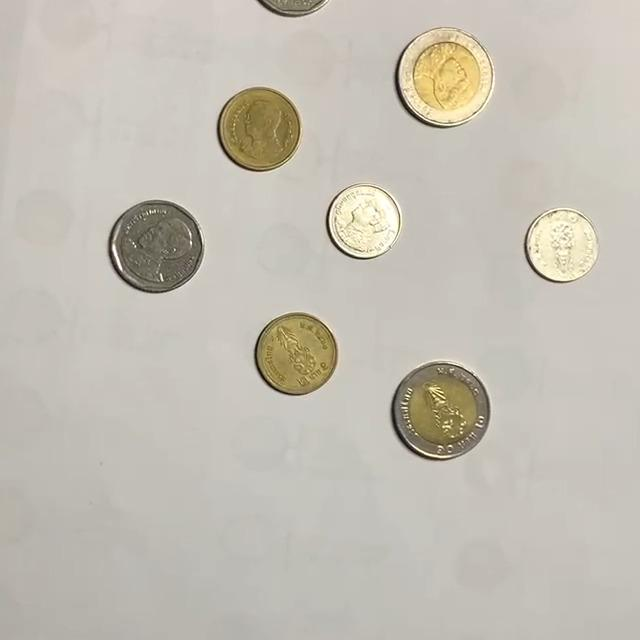1-baht: (525, 206, 601, 282), (327, 184, 403, 259)
10-baht: (397, 27, 496, 126), (392, 363, 492, 460)
2-baht: (218, 87, 302, 172), (255, 313, 338, 395)
5-baht: (109, 200, 206, 294)
